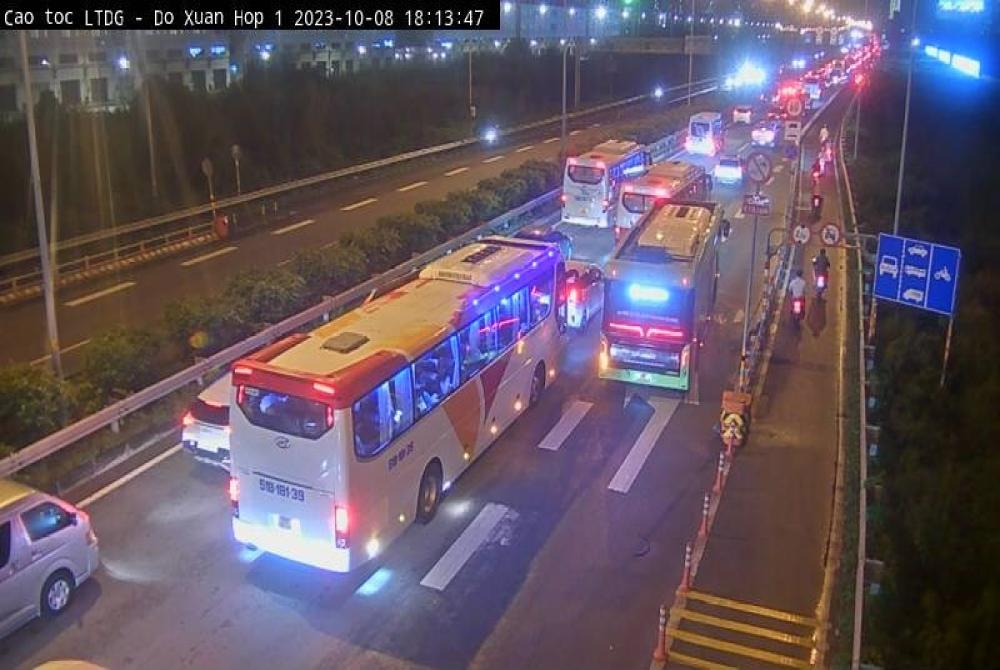bus: (224, 212, 580, 591), (597, 192, 733, 420), (556, 132, 652, 224)
car: (3, 472, 120, 648), (168, 367, 254, 475)
